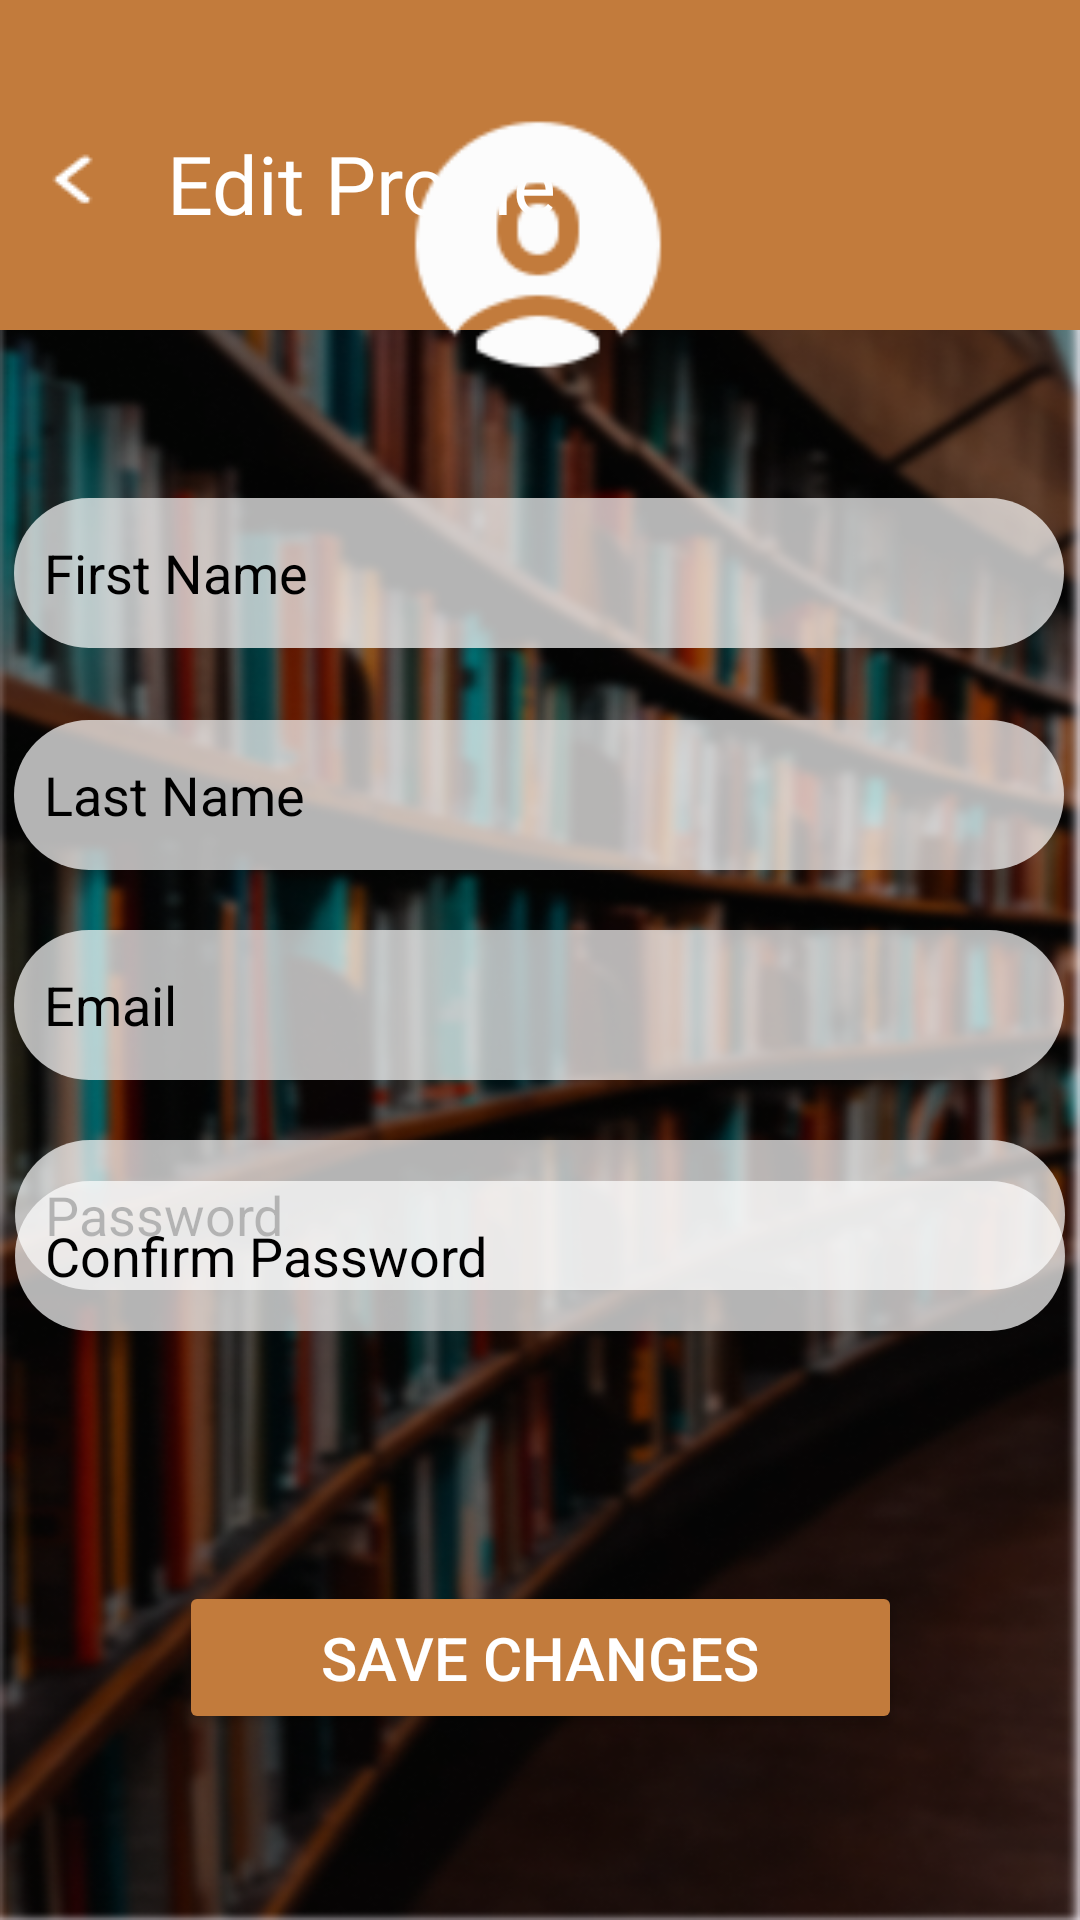

Point at icon controls on the screen. Image size 1080w x 1920h, points as [x,y].
arrow back: [73,179]
